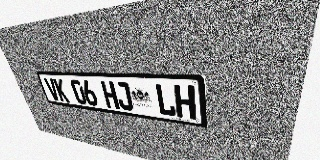0: (69, 79, 88, 105)
6: (80, 80, 99, 106)
H: (174, 84, 196, 120), (100, 81, 120, 109)
J: (114, 81, 134, 111)
K: (52, 79, 70, 102)
L: (155, 83, 176, 117)
V: (44, 78, 61, 101)
